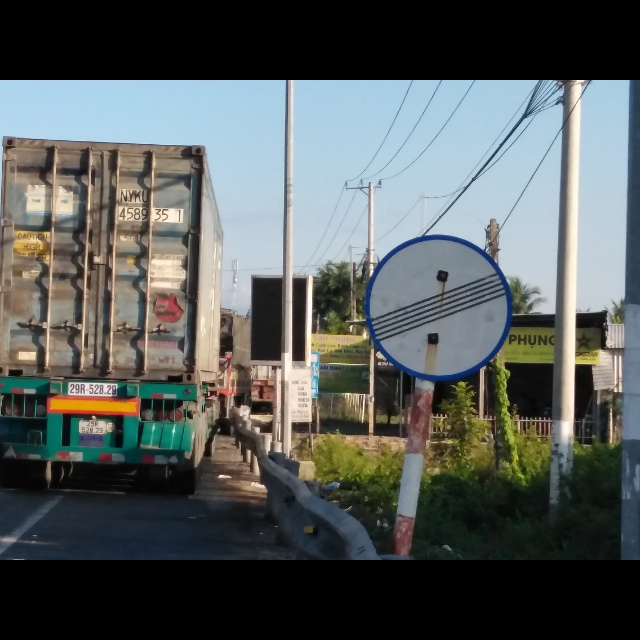Hết tất cả các lệnh cấm: (358, 231, 517, 383)
